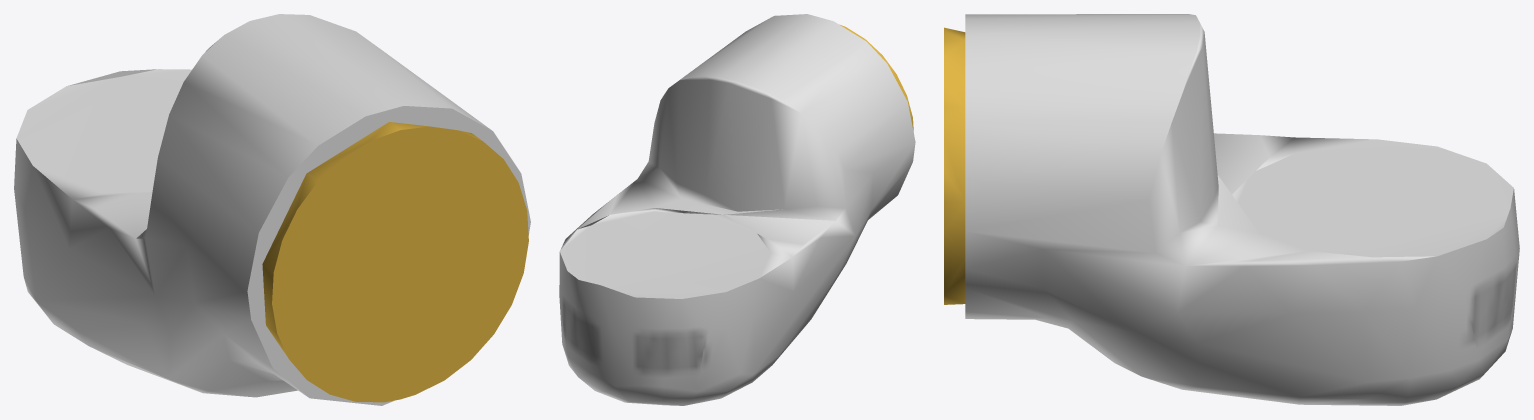
Rendered from link_wrist.glb.
3 views of the same model, side by side, from view 1: azimuth 30°, elevation 25°; view 2: azimuth 150°, elevation 25°; view 3: azimuth 270°, elevation 25° (orthographic). The views are drawn at different scales.
Visible parts, largest first — view 1: link_wrist.3obj; view 2: link_wrist.3obj; view 3: link_wrist.3obj.
Boxes of the visible parts, <box> form: link_wrist.3obj: <box>14,14,530,405</box>; link_wrist.3obj: <box>559,14,915,405</box>; link_wrist.3obj: <box>944,14,1519,405</box>.
Bounding box in the file's own units: 0.0816 × 0.099 × 0.1501.
1 material, 1 textured.
